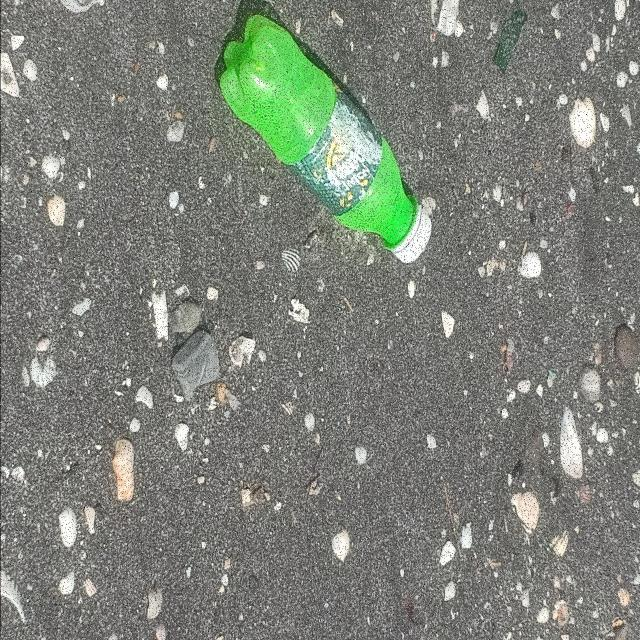plastic_waste: (220, 16, 434, 265)
